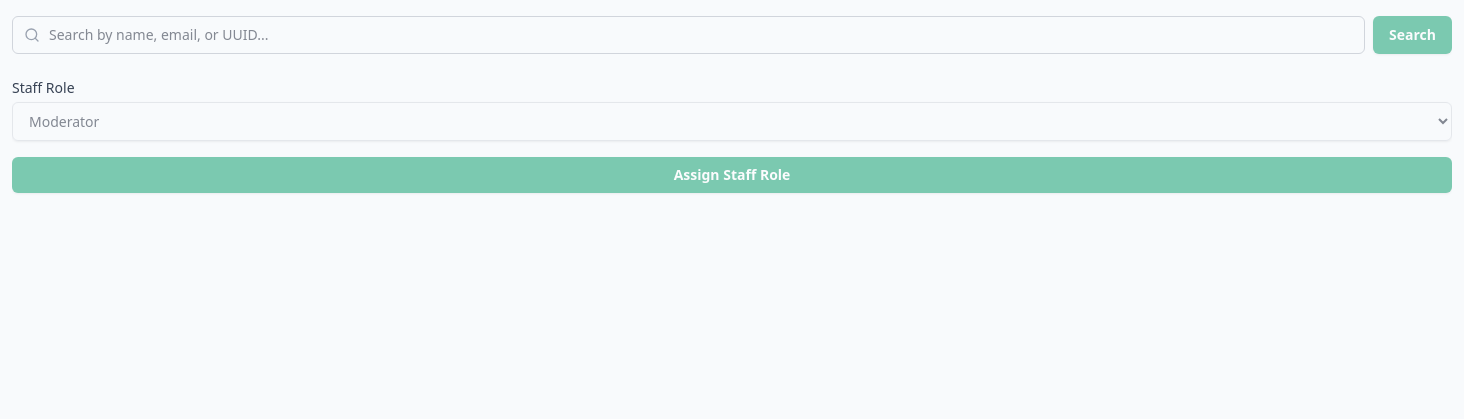
Test: Staff Management UX › StaffForm enables submission only after user selection
The width and height of the screenshot is (1464, 419).
Expected: the button "Assign Staff Role" is disabled, 12,157 -> 1452,193
Type "Test" into the field with placeholder "Search by name, email, or UUID..." at (689, 35), box 12,16 -> 1365,54
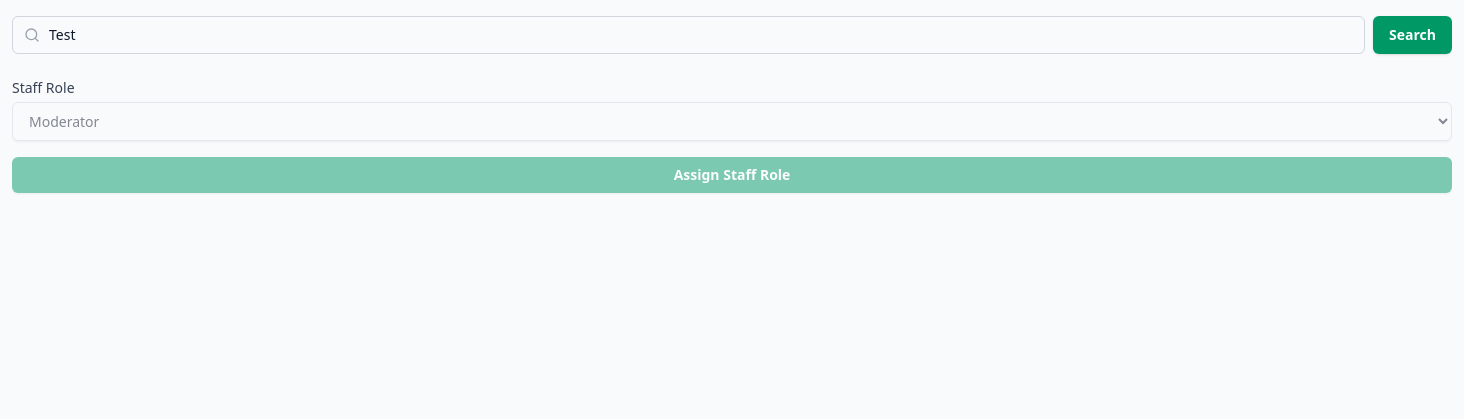
Click the button "Search" at (1413, 35), box 1373,16 -> 1452,54
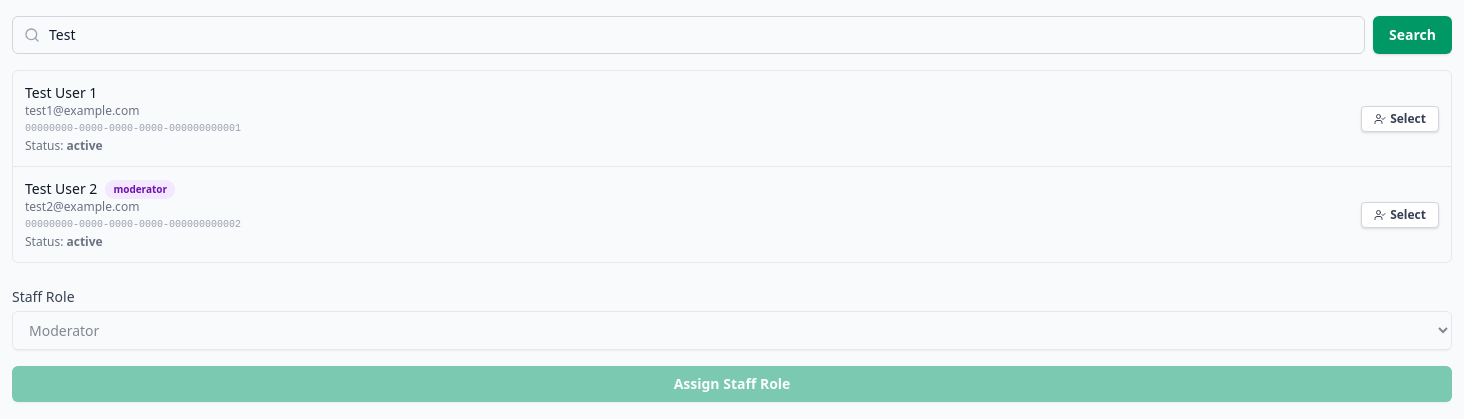
Click the button "Select" in the row of "test1@example.com" at (1400, 118), box 1361,106 -> 1439,132
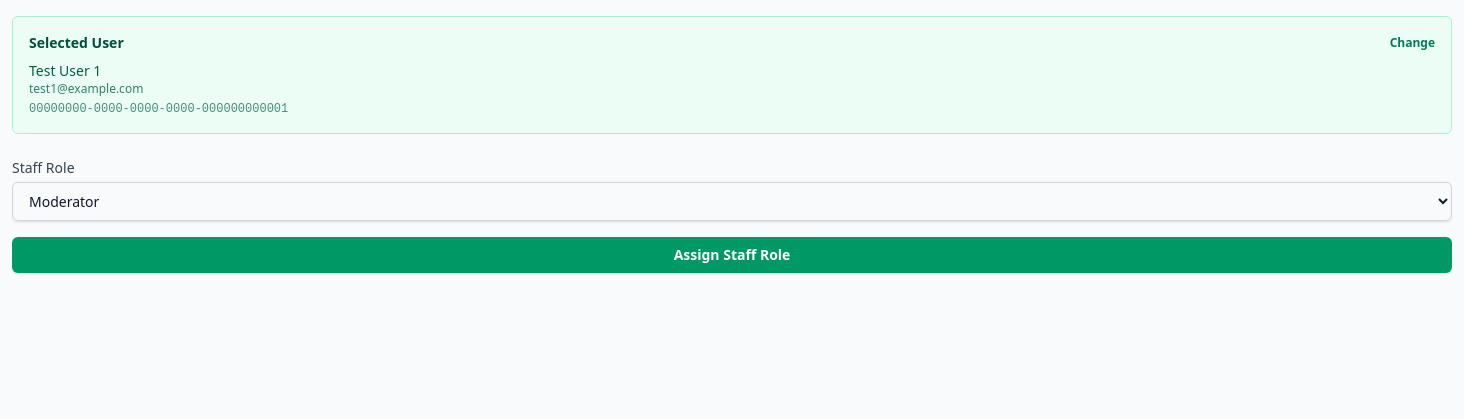
Expected: the text "Test User 1" is shown, 29,61 -> 101,80
Expected: the heading "Selected User" is shown, 29,33 -> 124,53
Expected: the button "Assign Staff Role" is enabled, 12,237 -> 1452,273
